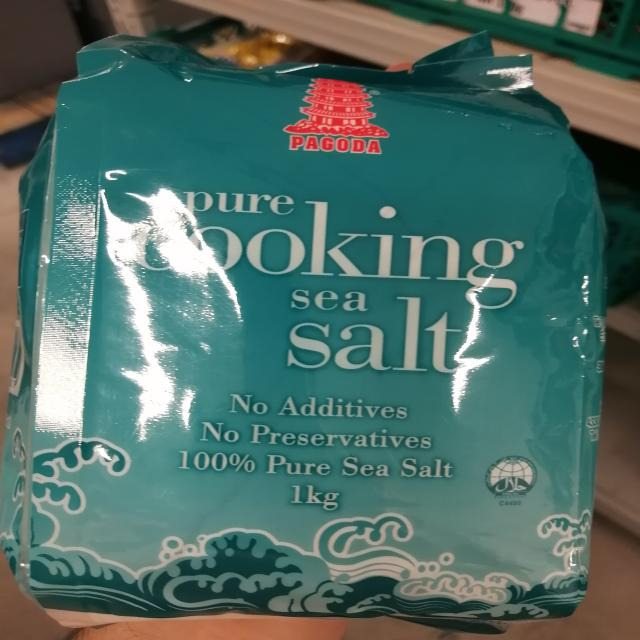object_name: (53, 65, 582, 612)
